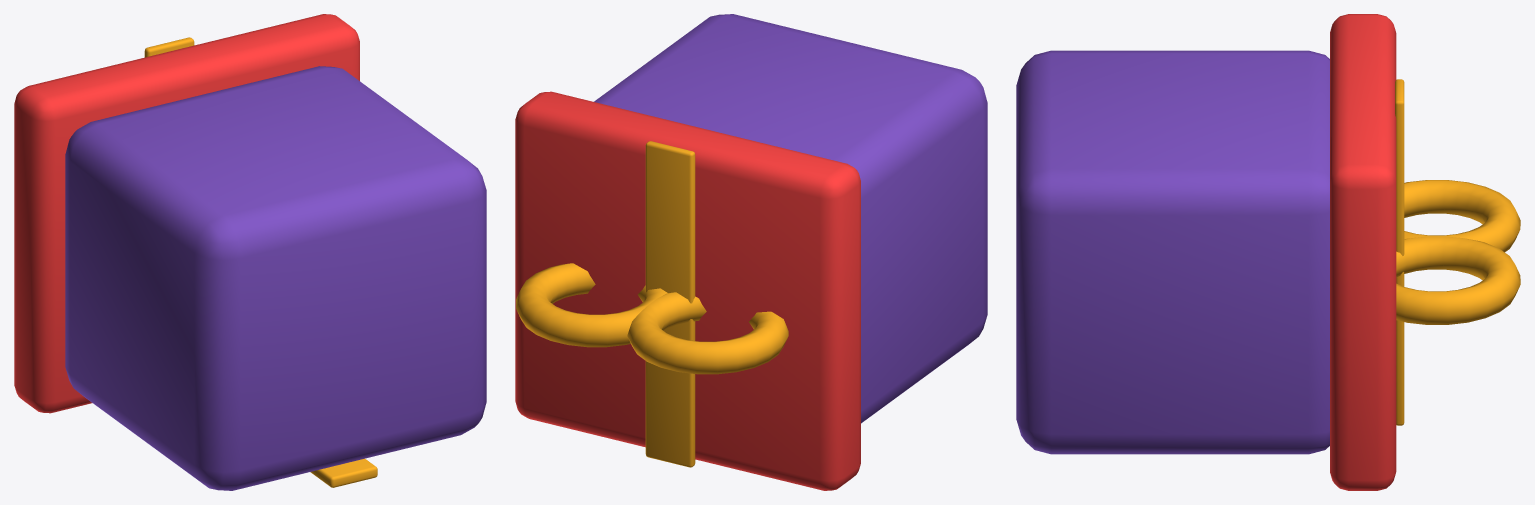
Rendered from BonusGift.fbx.
The picture shows the model from 3 angles, left to right: view 1: azimuth 30°, elevation 25°; view 2: azimuth 150°, elevation 25°; view 3: azimuth 270°, elevation 25°; orthographic projection. The views are drawn at different scales.
Parts seen in each view (by area): view 1: BonusGift; view 2: BonusGift; view 3: BonusGift.
Boxes of the visible parts, <box> form: BonusGift: <box>14,14,486,490</box>; BonusGift: <box>515,14,987,490</box>; BonusGift: <box>1016,14,1520,490</box>.
Size of the model in its own units: 0.5 by 0.46 by 0.6472.
